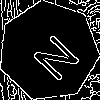N: (23, 26, 82, 84)
